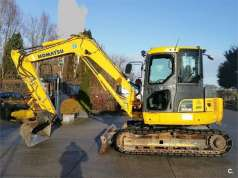backhoe: (10, 33, 231, 163)
